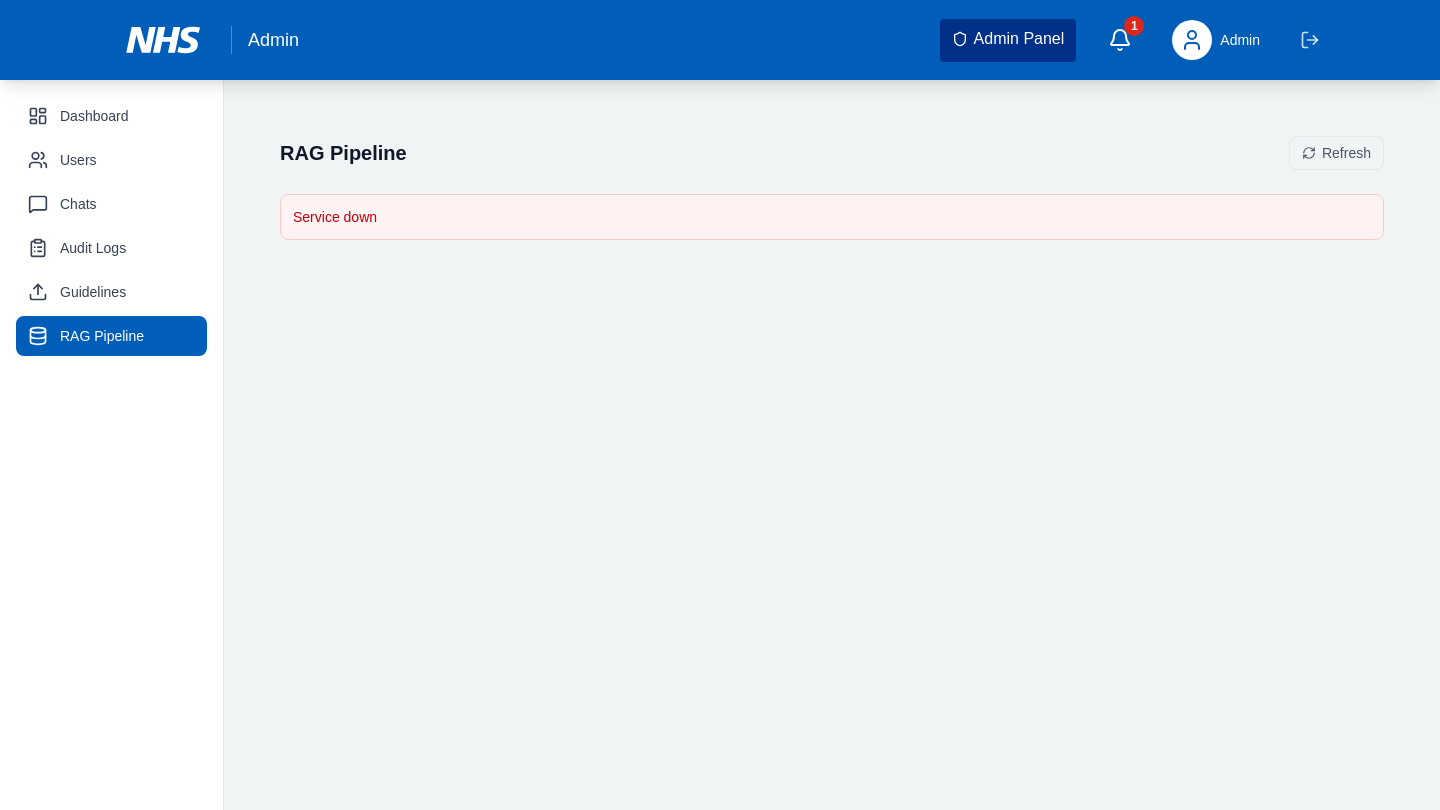
Test: AdminRagPage — refresh › clears previous error on successful refresh
The image size is (1440, 810).
Expected: the text "Service down" is shown, [280,194,1384,240]
Click the button "Refresh" at (1336, 153), box [1289,136,1384,170]
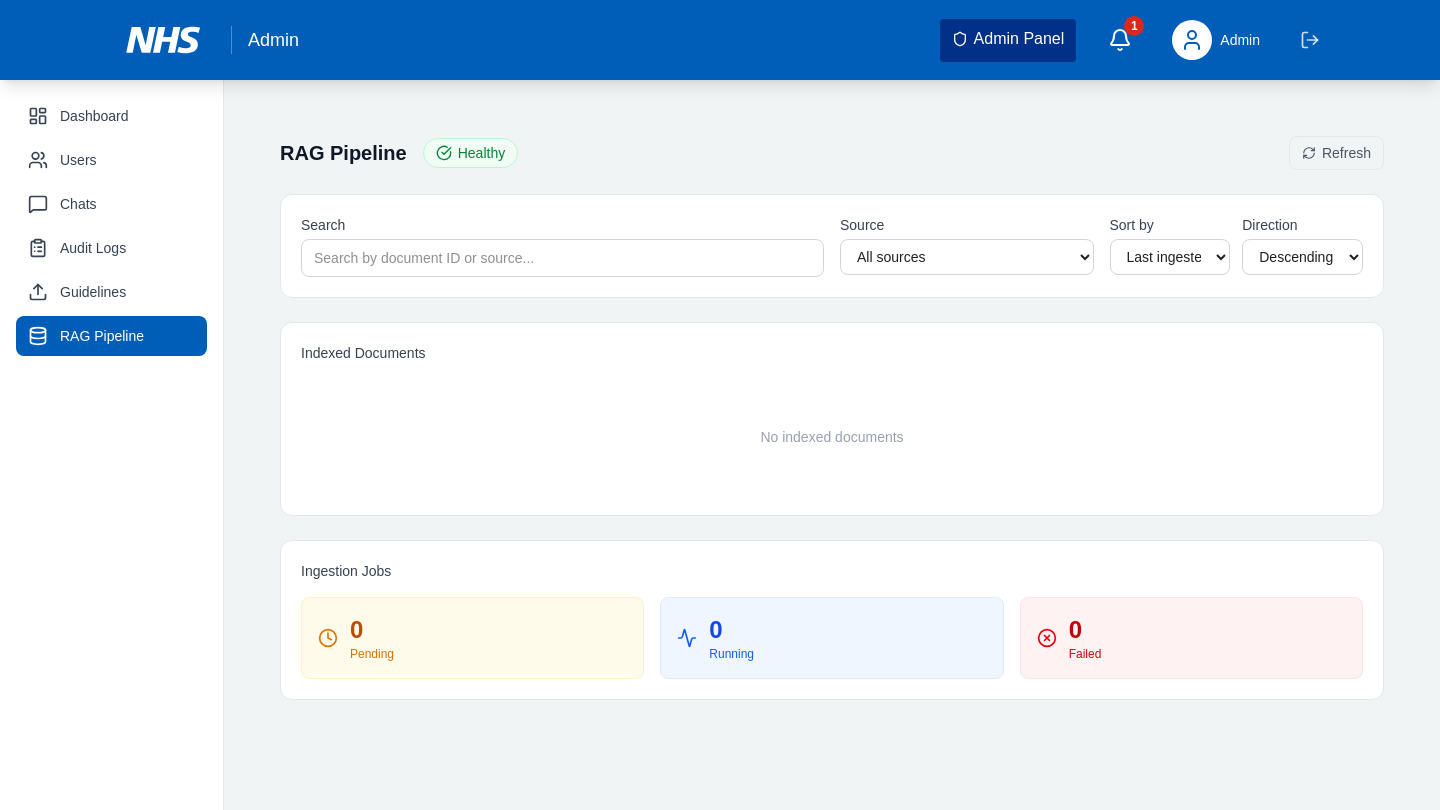
Now the text "Service down" is gone
Now the heading "Ingestion Jobs" is shown, box [301,563,391,579]
